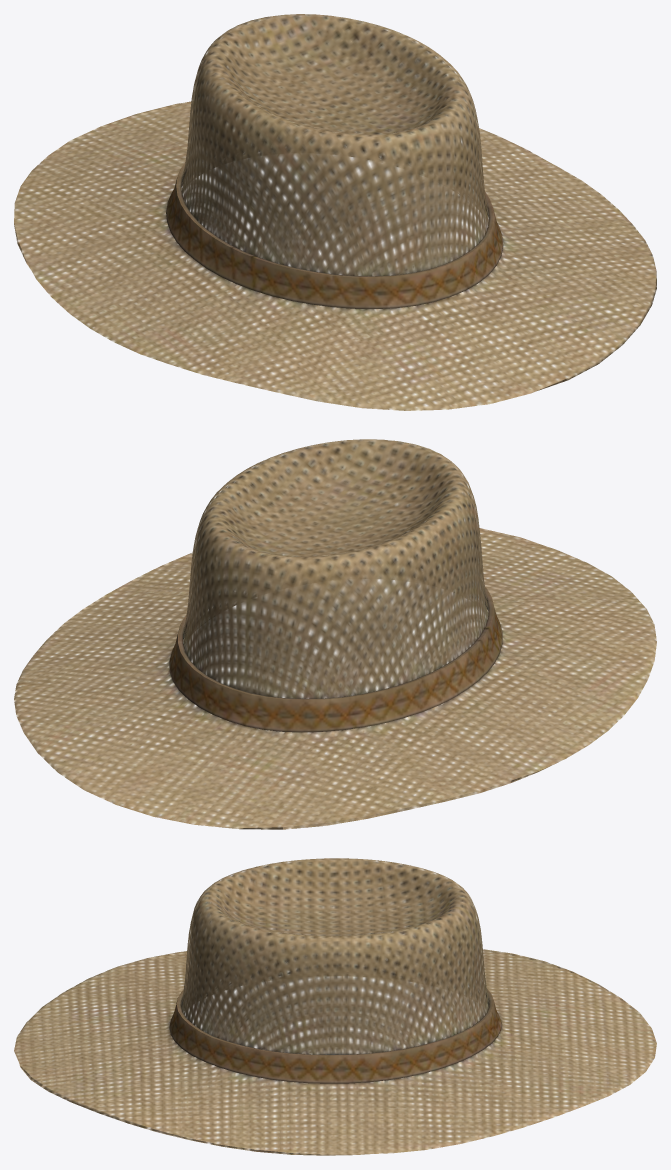
The model's file is cappello.glb.
3 views of the same model, one above another, from view 1: azimuth 30°, elevation 25°; view 2: azimuth 150°, elevation 25°; view 3: azimuth 270°, elevation 25° (orthographic). The views are drawn at different scales.
Parts seen in each view (by area): view 1: hat_2_hat_2_mat_0; view 2: hat_2_hat_2_mat_0; view 3: hat_2_hat_2_mat_0.
Part boxes in pixels (<box>): hat_2_hat_2_mat_0: <box>14,14,656,410</box>; hat_2_hat_2_mat_0: <box>14,439,656,829</box>; hat_2_hat_2_mat_0: <box>14,858,656,1155</box>.
Bounding box in the file's own units: 0.4395 × 0.1479 × 0.5596.
1 material, 1 textured.
